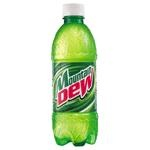grozi_105: (51, 3, 99, 147)
